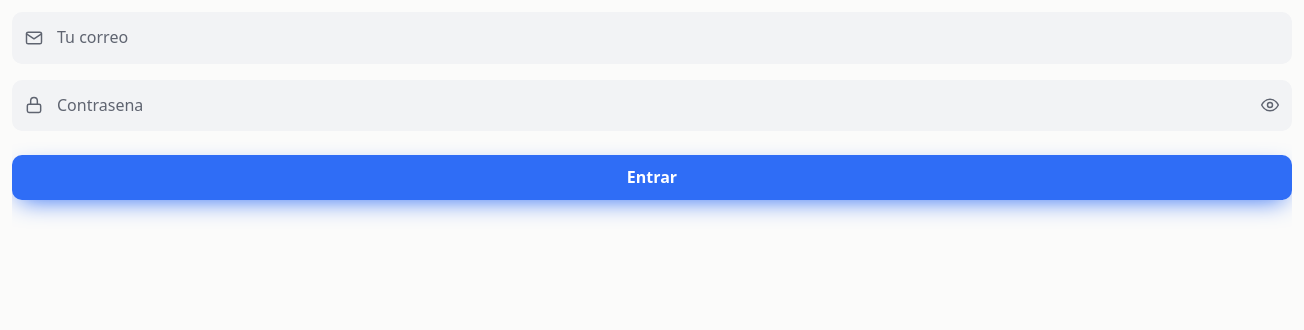
it: LoginForm › un 500 ensena la referencia para soporte
Type "ana@casa.com" into the field with placeholder "Tu correo". click: (652, 38)
box: left=12, top=12, right=1292, bottom=64
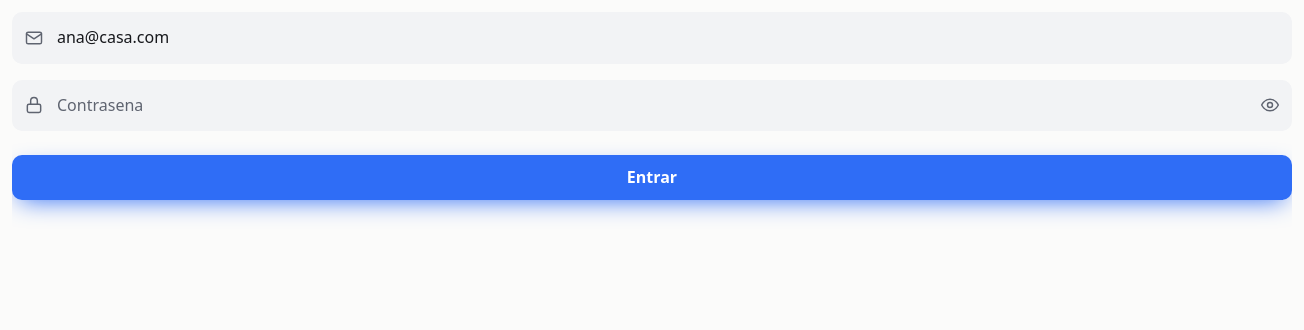
Type "una-contrasena-larga" into the password field with placeholder "Contrasena". click: (652, 105)
box: left=12, top=80, right=1292, bottom=131
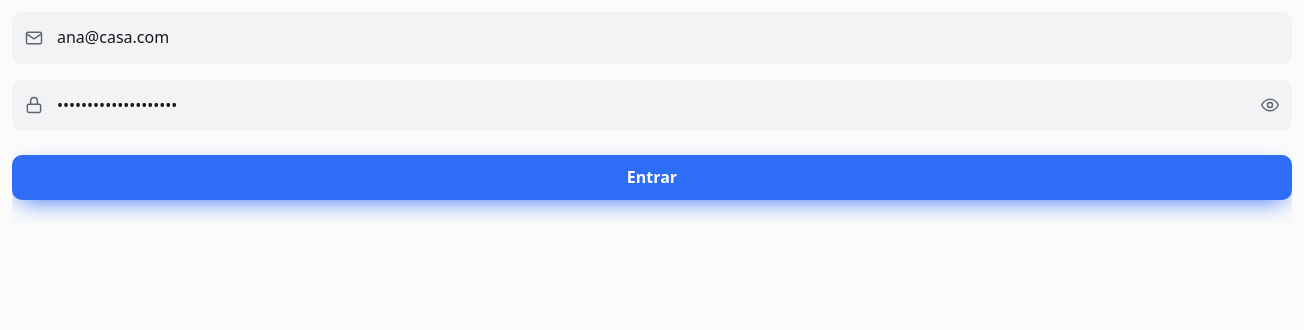
Submit the form, box left=12, top=12, right=1292, bottom=200
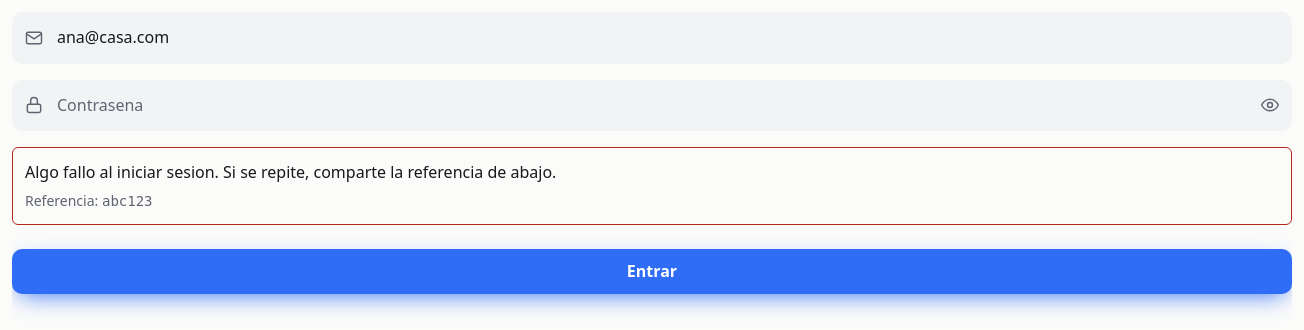
Expected: the message with class "fallo" shows "abc123", left=102, top=193, right=153, bottom=209
